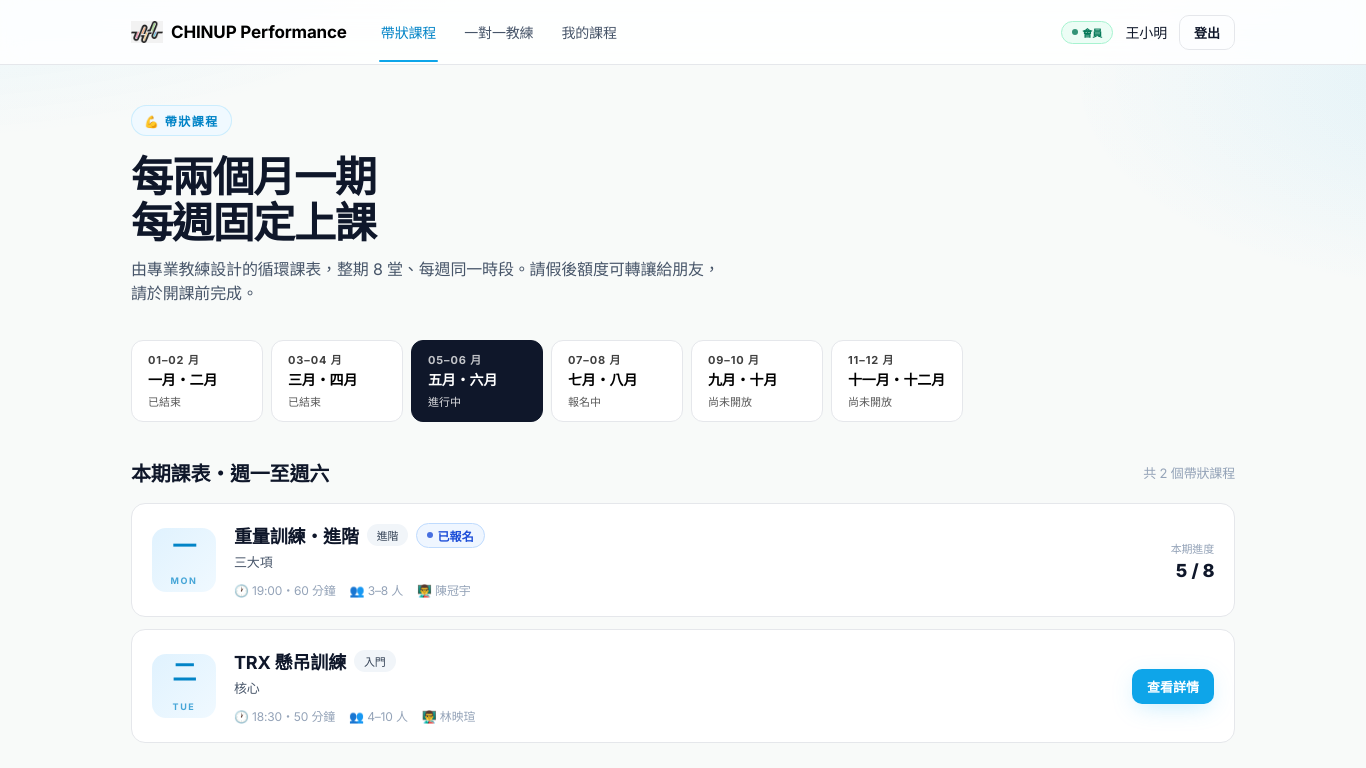
CoursesPage › opens drawer with course detail and shows register button
Click the unregistered course strip card
Step 1. Click the heading "TRX 懸吊訓練" → (290, 661), box [234, 648, 346, 674]
(page scrolled)
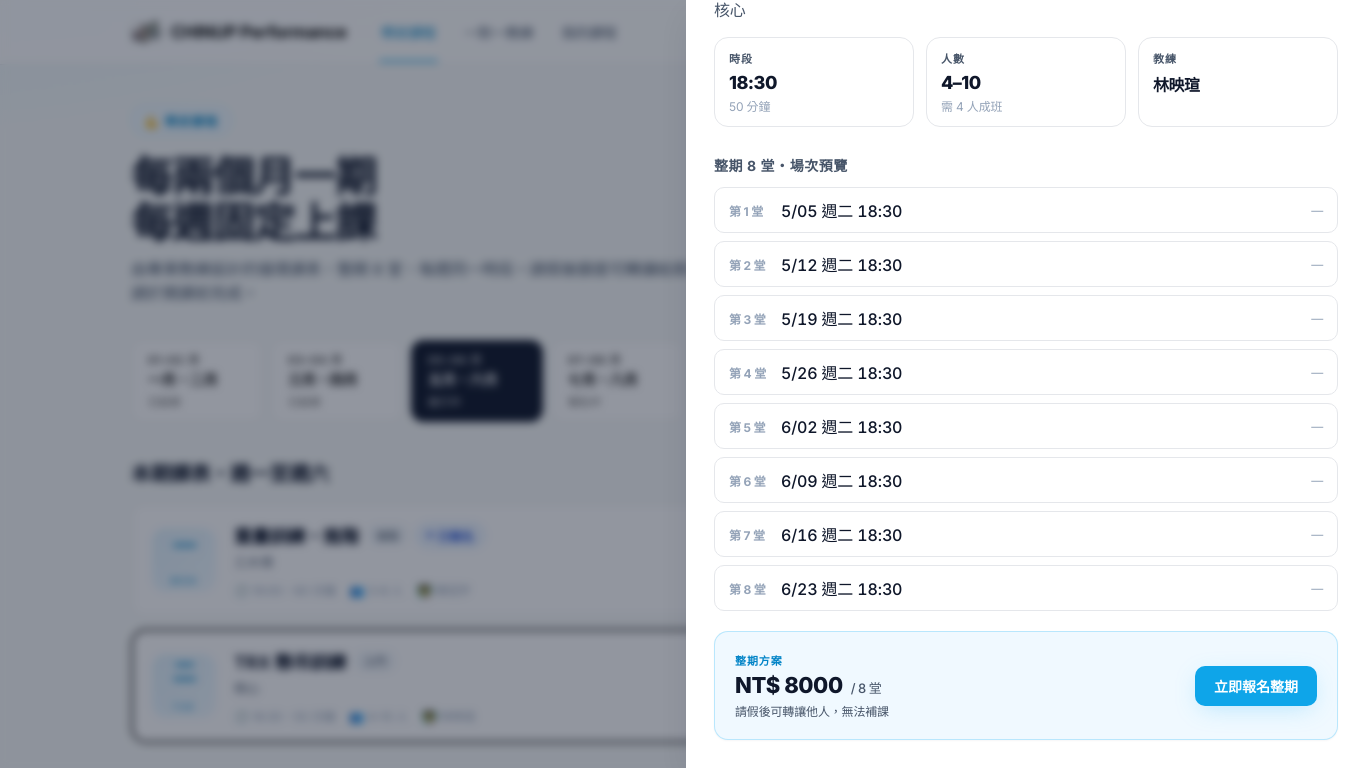
Now the text "整期方案" is shown, box [735, 654, 782, 668]
Now the text "NT$ 8000/ 8 堂" is shown, box [735, 672, 889, 698]
Now the button "立即報名整期" is shown, box [1195, 666, 1317, 706]
